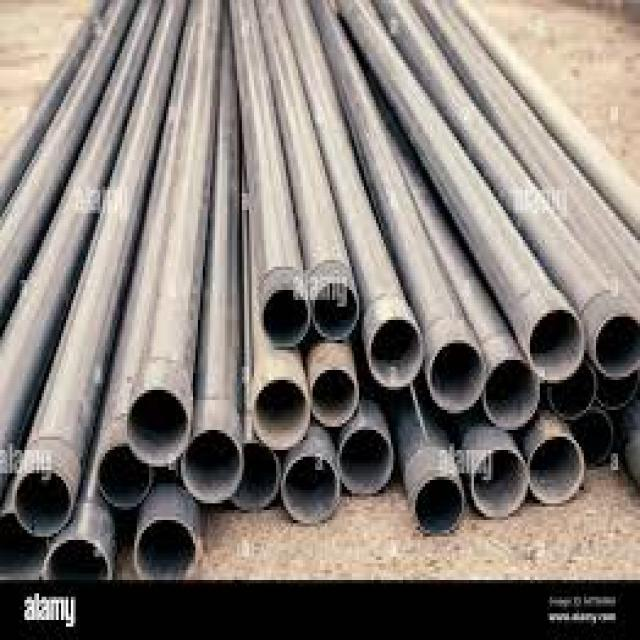pipe: (122, 385, 192, 469), (180, 425, 246, 505), (281, 449, 342, 530), (11, 464, 75, 539), (133, 512, 202, 581), (251, 373, 312, 451), (365, 313, 424, 392), (425, 339, 486, 415), (471, 445, 530, 523), (527, 304, 585, 383), (528, 431, 587, 506), (95, 440, 153, 514), (483, 356, 540, 431), (409, 471, 469, 541), (337, 424, 394, 497), (41, 532, 112, 583), (231, 441, 281, 513), (259, 284, 312, 351), (545, 357, 597, 423), (309, 365, 360, 431), (593, 312, 640, 383), (312, 276, 360, 343), (568, 403, 614, 470)
